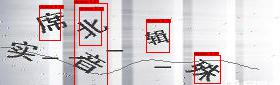chinese: (36, 8, 71, 37), (10, 39, 44, 62), (75, 17, 110, 39), (188, 58, 217, 83), (75, 51, 103, 76), (145, 28, 170, 44)
